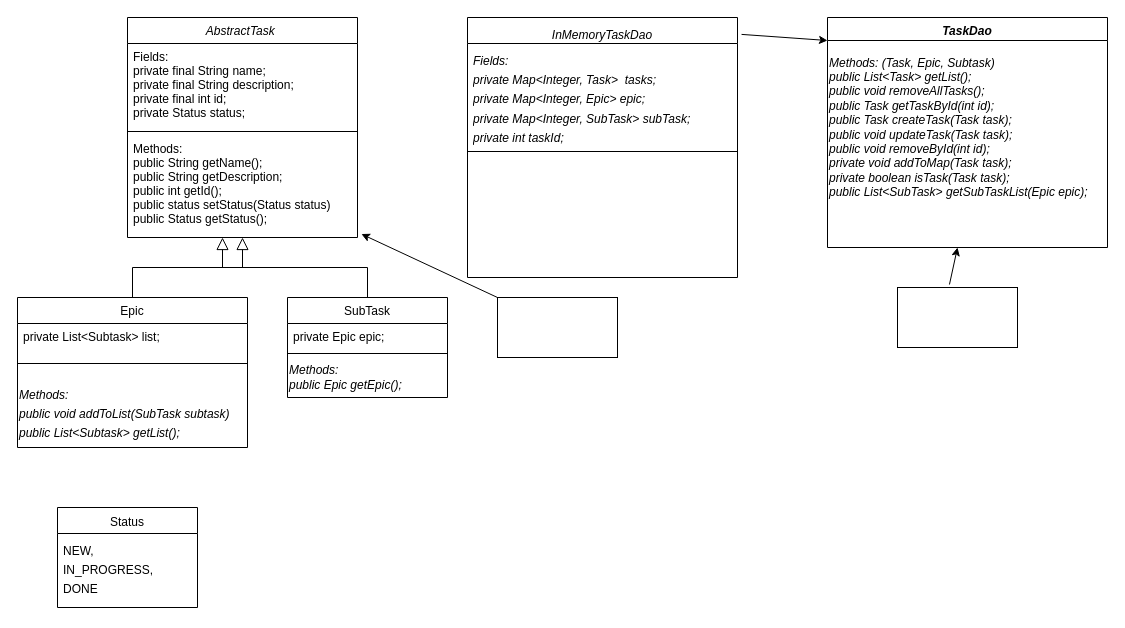
The diagram is 1125 pixels wide and 628 high, and some of its shapes have lost their labels. The centre of each missing label's shape, as x and y in pixels:
"Manager" belongs at point 957,317.
"Task" belongs at point 557,327.
